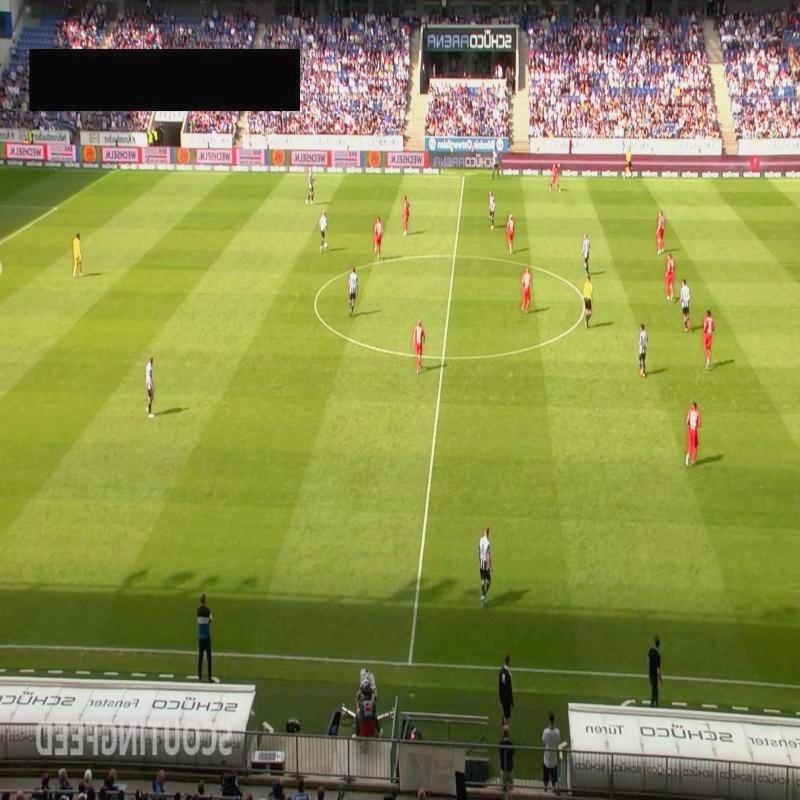13: (457, 169, 472, 183)
14: (448, 247, 463, 261)
15: (436, 350, 453, 367)
16: (400, 653, 419, 676)
9: (47, 201, 61, 215)
c: (310, 294, 324, 308), (578, 299, 591, 313)
